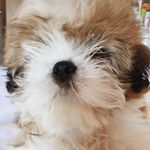puppy: (5, 2, 140, 128)
